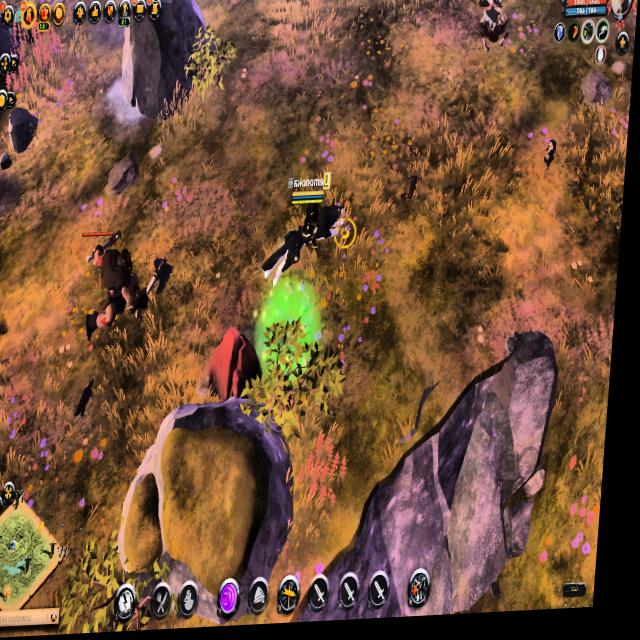rock tier 5: (208, 325, 270, 417)
